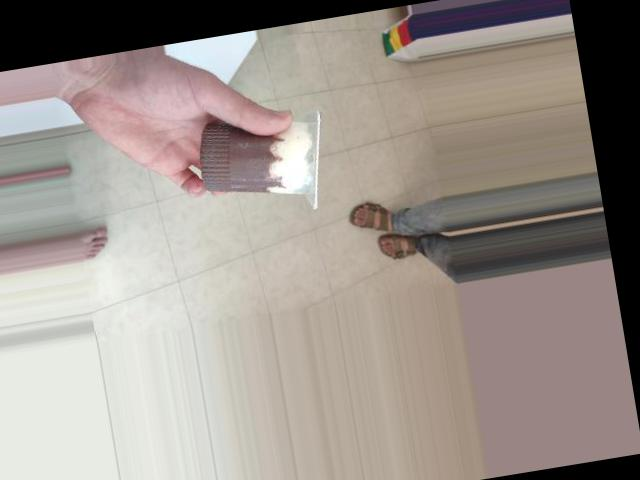milky: (207, 124, 331, 213)
